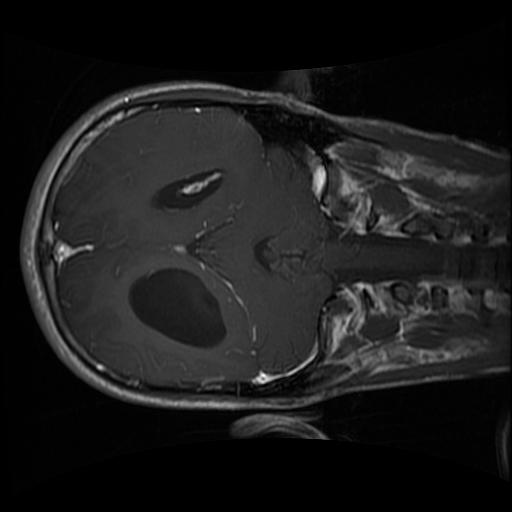glioma: (60, 221, 118, 312)
